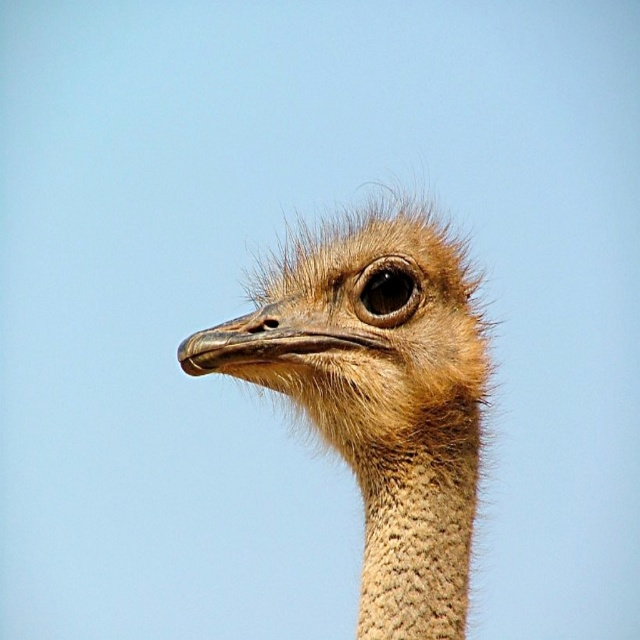Ostrich: (181, 202, 476, 639)
